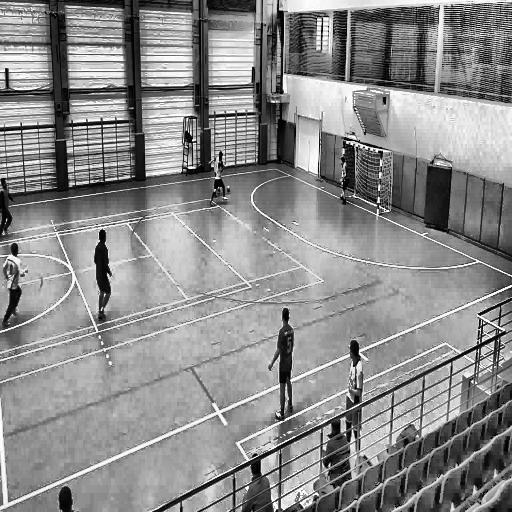ball: (226, 184, 232, 194)
player: (266, 307, 296, 425), (344, 338, 364, 462), (2, 242, 29, 333), (94, 228, 113, 325), (0, 178, 17, 238), (211, 158, 229, 209), (207, 152, 225, 196), (338, 153, 350, 212)
